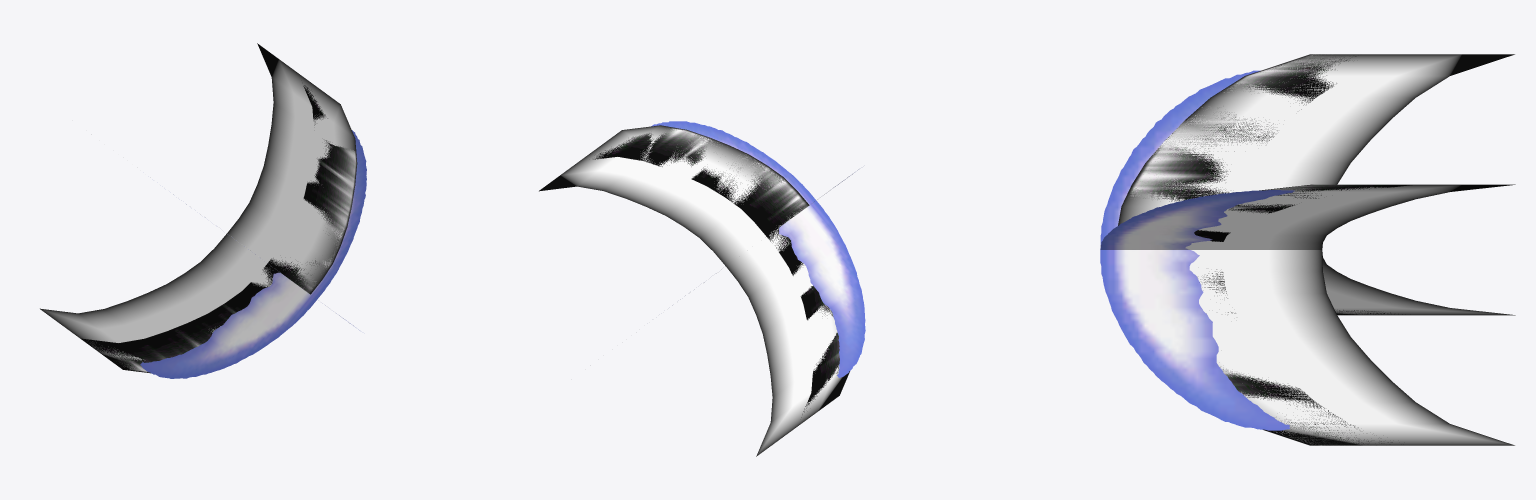
File: shuangzhan1.FBX
The picture shows the model from 3 angles, left to right: view 1: azimuth 30°, elevation 25°; view 2: azimuth 150°, elevation 25°; view 3: azimuth 270°, elevation 25°; orthographic projection. The views are drawn at different scales.
Visible parts, largest first — view 1: Plane02, Plane03, Plane01; view 2: Plane02, Plane03, Plane01; view 3: Plane02, Plane01, Plane03.
Part boxes in pixels (bbox=[...]): Plane02: bbox=[40, 43, 356, 370]; Plane03: bbox=[80, 85, 357, 373]; Plane01: bbox=[140, 130, 366, 378]; Plane02: bbox=[539, 125, 849, 456]; Plane03: bbox=[593, 127, 839, 417]; Plane01: bbox=[651, 121, 865, 377]; Plane02: bbox=[1118, 54, 1515, 445]; Plane01: bbox=[1100, 70, 1294, 430]; Plane03: bbox=[1127, 54, 1415, 445].
Bounding box in the file's own units: 3.22 × 4.39 × 2.99.
2 materials, 2 textured.
